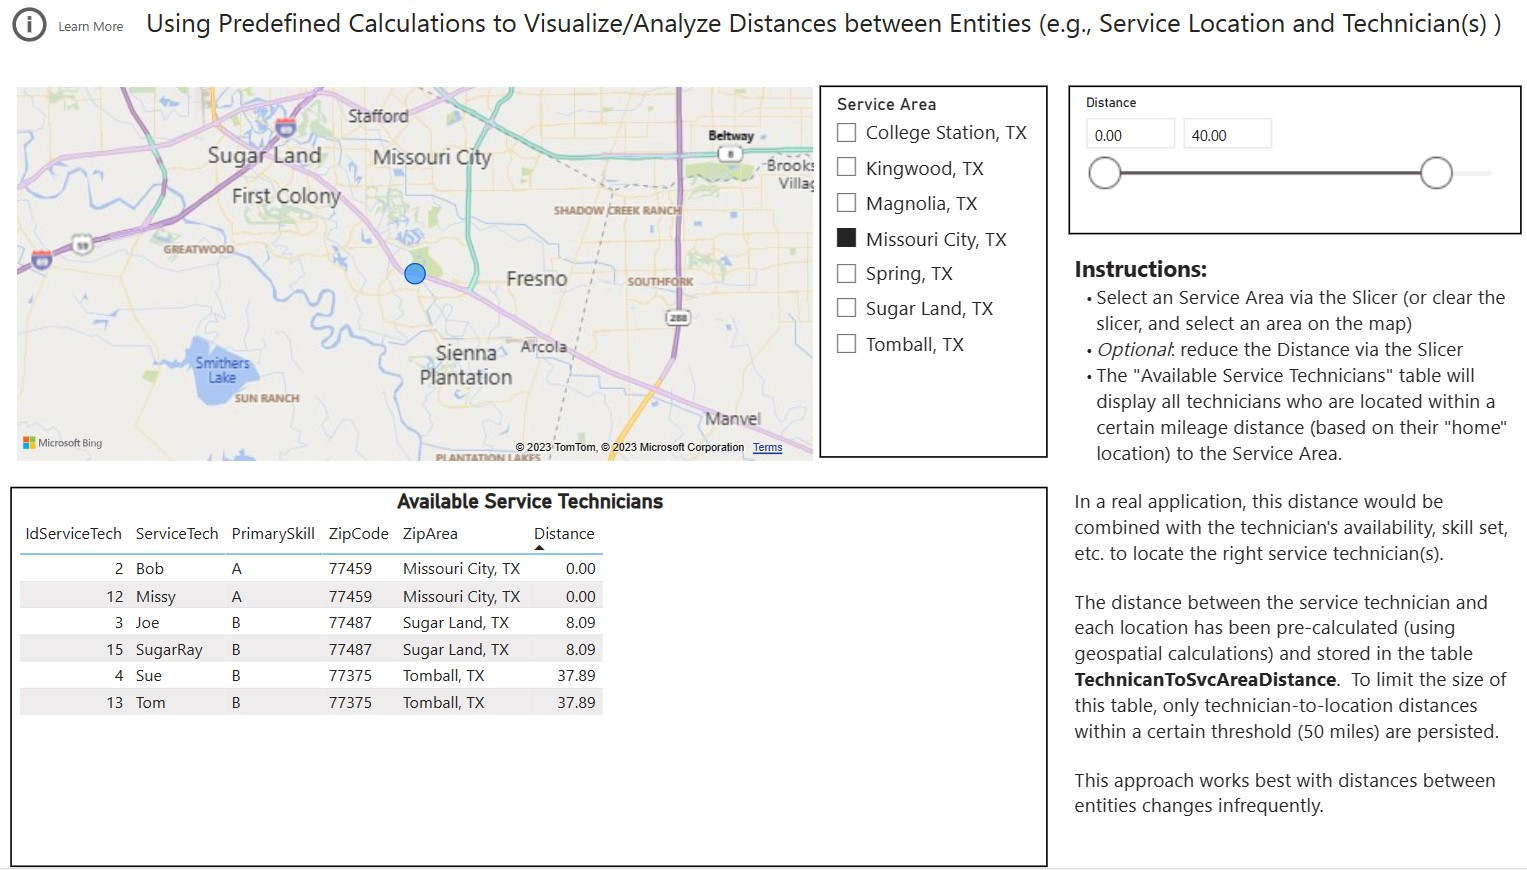

What the dashboard file says about the page in this screenshot:
{"tool":"powerbi","page":{"name":"Find_A_Technician","canvas":[1280,720],"ordinal":0},"visuals":[{"type":"map","title":"Service Locations","fields":{"Category":["loc ZipCode.ZipCode"],"Size":["loc ServiceTechLocationDistance.IdServiceTech"]},"box":[19.2,71.3,666.3,318.1],"z":0},{"type":"tableEx","title":"Available Service Technicians","fields":{"Values":["loc ServiceTechLocationDistance.IdServiceTech","loc ServiceTech.ServiceTech","loc ServiceTech.PrimarySkill","loc ServiceTech.ZipCode","loc ServiceTech.ZipArea","loc ServiceTechLocationDistance.Distance"]},"box":[19.2,405.8,854.2,314],"z":1000},{"type":"slicer","fields":{"Values":["loc ZipCode.ZipArea"]},"box":[685.5,75.4,187.8,307.1],"z":2000},{"type":"slicer","fields":{"Values":["loc ServiceTechLocationDistance.Distance"]},"box":[891.2,75.4,372.9,122],"z":3000},{"type":"textbox","box":[116.1,3.7,1146.6,48.9],"z":4000},{"type":"textbox","box":[891.1,207.8,372.8,498.7],"z":5000},{"type":"actionButton","box":[15.9,6.1,100.2,37.9],"z":5001}]}

Visuals, with their boxes in screenshot pixels (x1, y1, x2, y2), scaled from the page's 1280x720 canvas onto the 1527x870 screenshot:
"Service Locations" map: region(23, 86, 818, 471)
"Available Service Technicians" tableEx: region(23, 490, 1042, 869)
slicer - loc ZipCode.ZipArea: region(818, 91, 1042, 462)
slicer - loc ServiceTechLocationDistance.Distance: region(1063, 91, 1508, 239)
textbox: region(139, 4, 1506, 64)
textbox: region(1063, 251, 1508, 854)
actionButton: region(19, 7, 139, 53)
